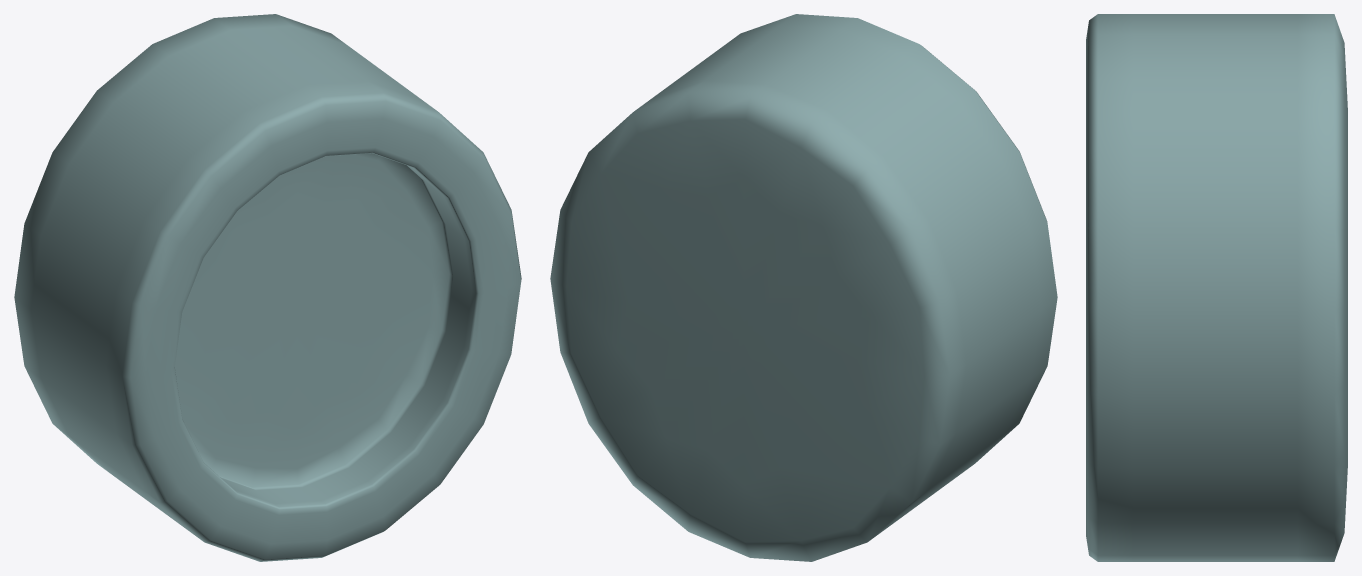
The model's file is Charger_Glow_Eye (1).fbx.
3 renders of one model, left to right at view 1: azimuth 30°, elevation 25°; view 2: azimuth 150°, elevation 25°; view 3: azimuth 270°, elevation 25°, orthographic. The views are drawn at different scales.
Parts seen in each view (by area): view 1: polySurface8; view 2: polySurface8; view 3: polySurface8.
Part boxes in pixels (bbox=[...]): polySurface8: bbox=[14, 14, 521, 561]; polySurface8: bbox=[550, 14, 1057, 561]; polySurface8: bbox=[1086, 14, 1347, 561].
Size of the model in its own units: 0.2797 by 0.3084 by 0.1447.
